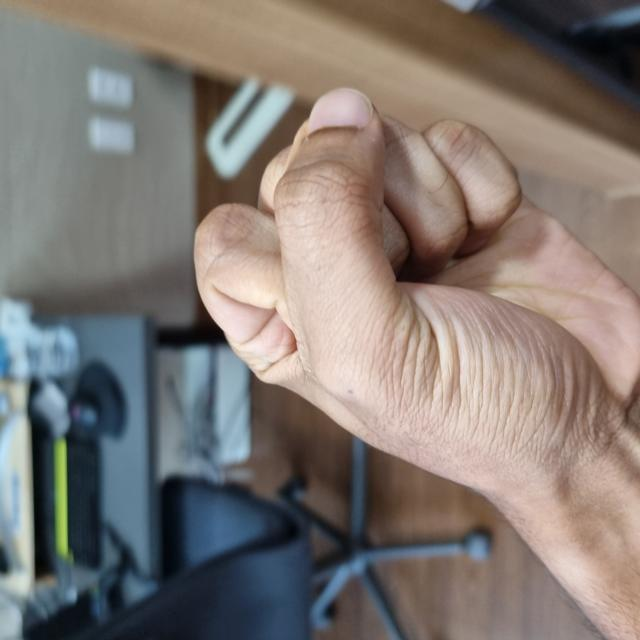Rock: (135, 198, 546, 639)
